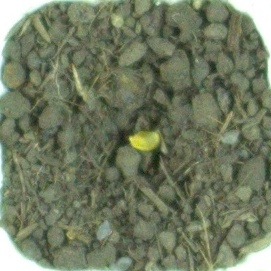pepper seed: (45, 53, 208, 205)
